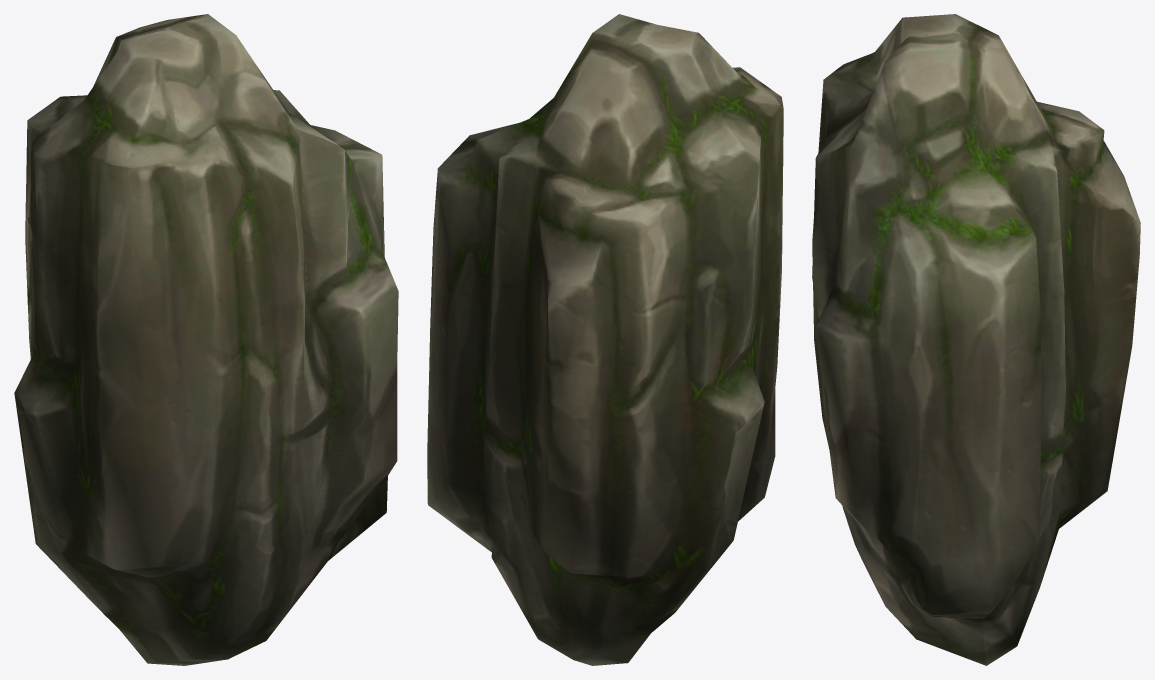
The model's file is RockFormation_4_2 (62).fbx.
3 views of the same model, side by side, from view 1: azimuth 30°, elevation 25°; view 2: azimuth 150°, elevation 25°; view 3: azimuth 270°, elevation 25° (orthographic). The views are drawn at different scales.
Parts seen in each view (by area): view 1: RockFormation_4_2 (62); view 2: RockFormation_4_2 (62); view 3: RockFormation_4_2 (62).
Part boxes in pixels (box(x1,y1,x2,y2)): RockFormation_4_2 (62): box(14, 14, 398, 665); RockFormation_4_2 (62): box(427, 14, 783, 665); RockFormation_4_2 (62): box(812, 14, 1140, 665).
Size of the model in its own units: 264 by 488 by 238.
1 material, 1 textured.
